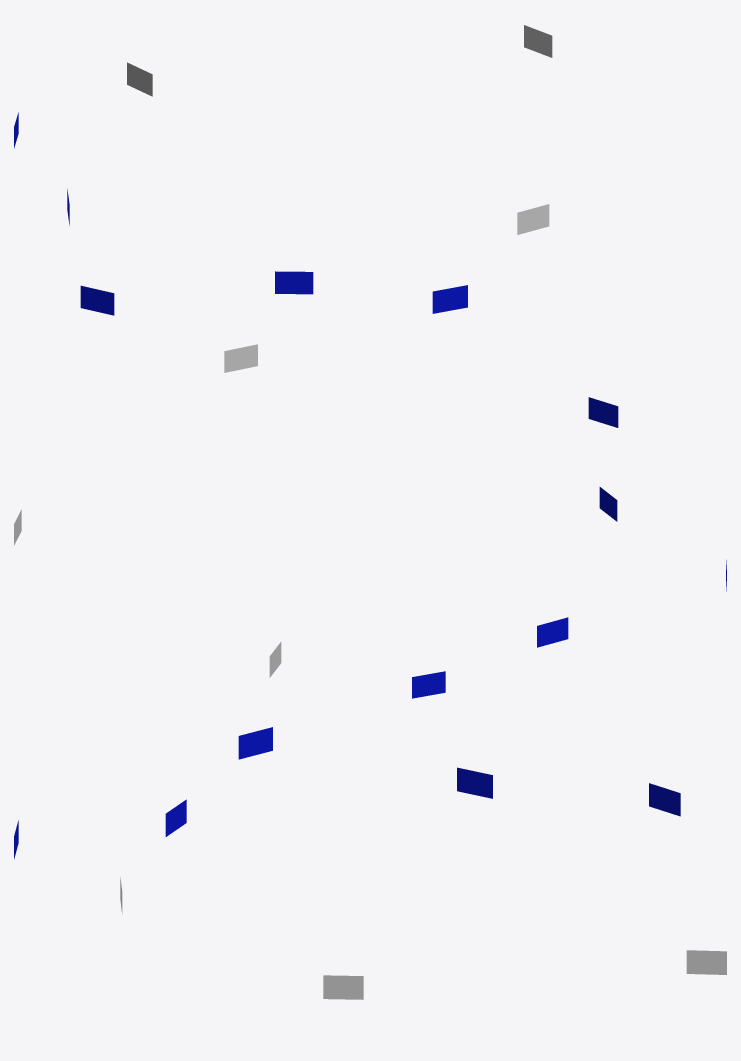
The model's file is images.glb.
3 views of the same model, one above another, from view 1: azimuth 30°, elevation 25°; view 2: azimuth 150°, elevation 25°; view 3: azimuth 270°, elevation 25° (orthographic). The views are drawn at different scales.
Visible parts, largest first — view 1: Plane.037, Plane.038, Plane.036, Plane.039, Plane.042, Plane.044; view 2: Plane.040, Plane.034, Plane.035, Plane.038; view 3: Plane.041, Plane.043, Plane.035, Plane.036, Plane.034, Plane.037.
Boxes of the visible parts, bbox=[...] form: Plane.037: bbox=[275, 271, 313, 294]; Plane.038: bbox=[432, 285, 467, 313]; Plane.036: bbox=[80, 285, 114, 315]; Plane.039: bbox=[517, 204, 549, 234]; Plane.042: bbox=[524, 25, 552, 57]; Plane.044: bbox=[127, 62, 152, 96]; Plane.040: bbox=[224, 344, 257, 372]; Plane.034: bbox=[412, 671, 445, 698]; Plane.035: bbox=[537, 617, 568, 647]; Plane.038: bbox=[588, 397, 618, 427]; Plane.041: bbox=[323, 975, 363, 999]; Plane.043: bbox=[686, 950, 726, 974]; Plane.035: bbox=[457, 767, 492, 798]; Plane.036: bbox=[238, 727, 272, 759]; Plane.034: bbox=[649, 783, 680, 816]; Plane.037: bbox=[165, 799, 186, 836].
Bounding box in the file's own units: 45.62 × 4.46 × 44.57.
